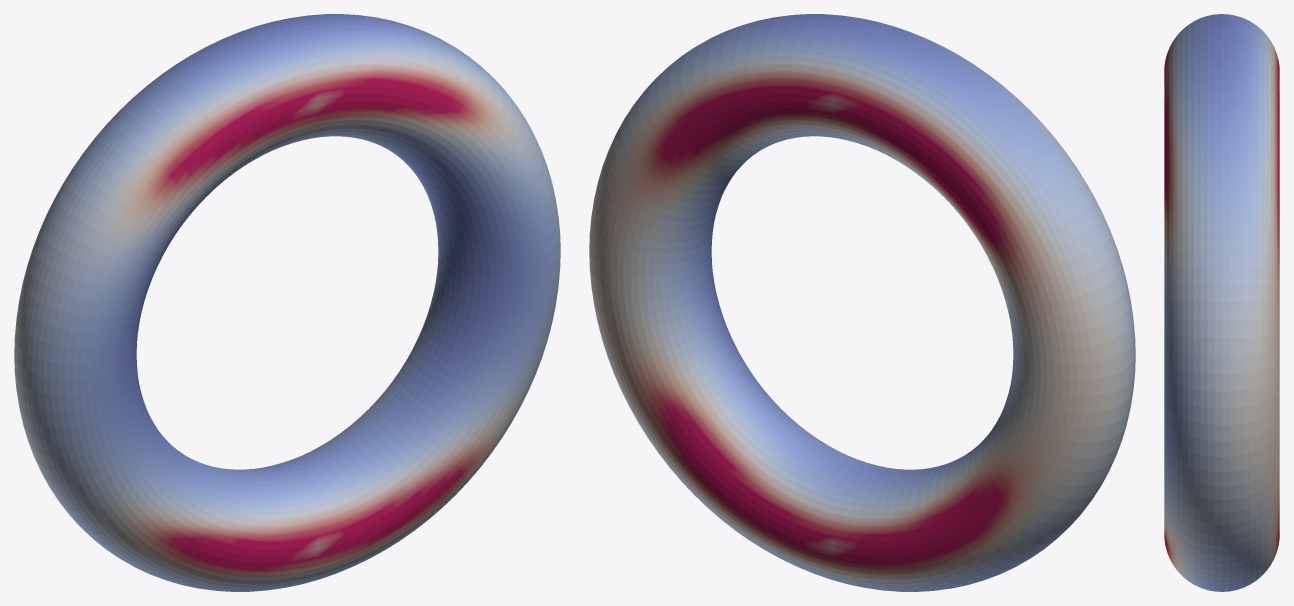
3 renders of one model, left to right at view 1: azimuth 30°, elevation 25°; view 2: azimuth 150°, elevation 25°; view 3: azimuth 270°, elevation 25°, orthographic. The views are drawn at different scales.
Visible parts, largest first — view 1: world; view 2: world; view 3: world.
Part boxes in pixels (x1,y1,x2,y2): world: (14,14,560,591); world: (589,14,1135,591); world: (1164,14,1279,591).
Size of the model in its own units: 23.33 by 23.33 by 4.66.
